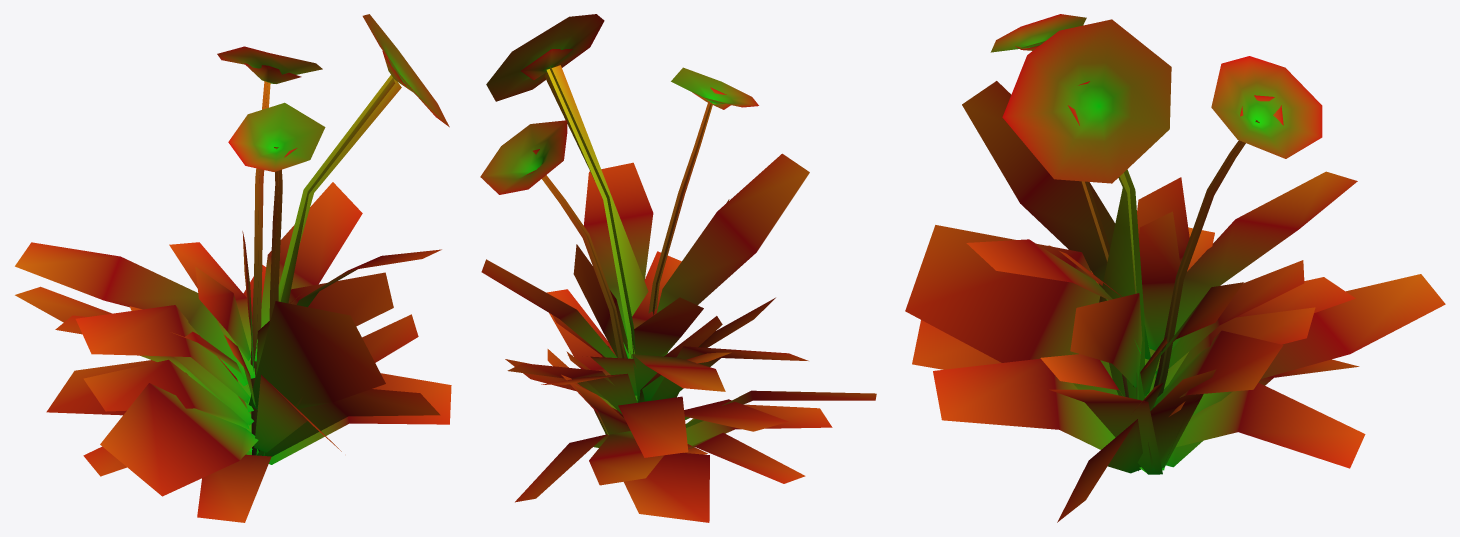
The model's file is Cape Weed_LOD1_Var4_tjmhfcyia.fbx.
The picture shows the model from 3 angles, left to right: view 1: azimuth 30°, elevation 25°; view 2: azimuth 150°, elevation 25°; view 3: azimuth 270°, elevation 25°; orthographic projection. The views are drawn at different scales.
Visible parts, largest first — view 1: _a64f_Var4_LOD1; view 2: _a64f_Var4_LOD1; view 3: _a64f_Var4_LOD1.
Boxes of the visible parts, x1,y1,x2,y2 form: _a64f_Var4_LOD1: (15, 14, 451, 522); _a64f_Var4_LOD1: (480, 14, 876, 522); _a64f_Var4_LOD1: (905, 14, 1445, 522).
Bounding box in the file's own units: 18.55 × 20.98 × 20.53.
